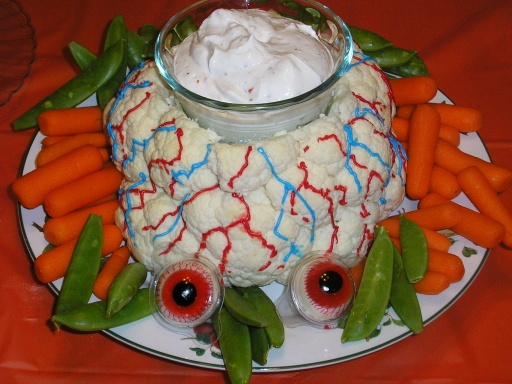background: (7, 8, 409, 230), (130, 4, 267, 61)
